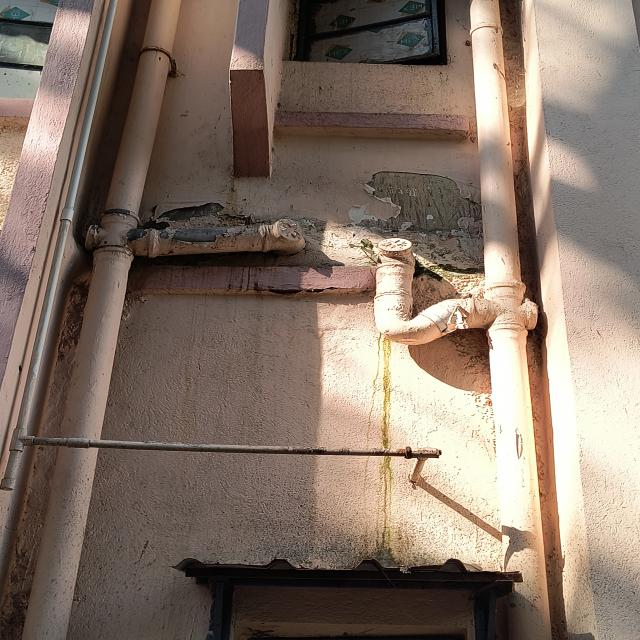Scaling: (358, 172, 484, 273), (143, 202, 244, 243)
